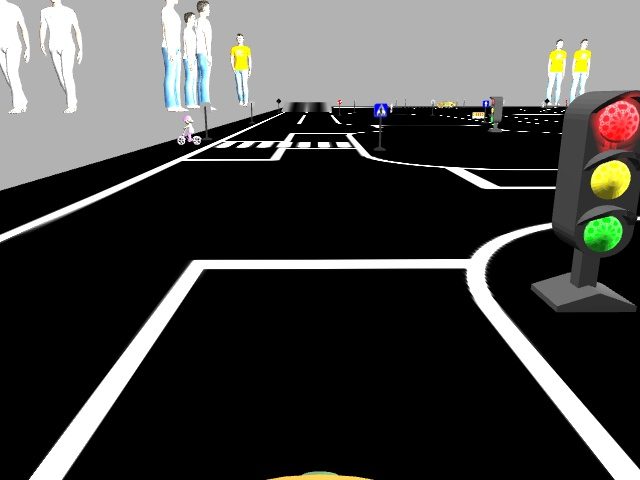Crosswalk: (374, 103, 387, 117)
Pedestrian: (176, 114, 201, 145)
TrafficLight: (553, 87, 639, 251)
